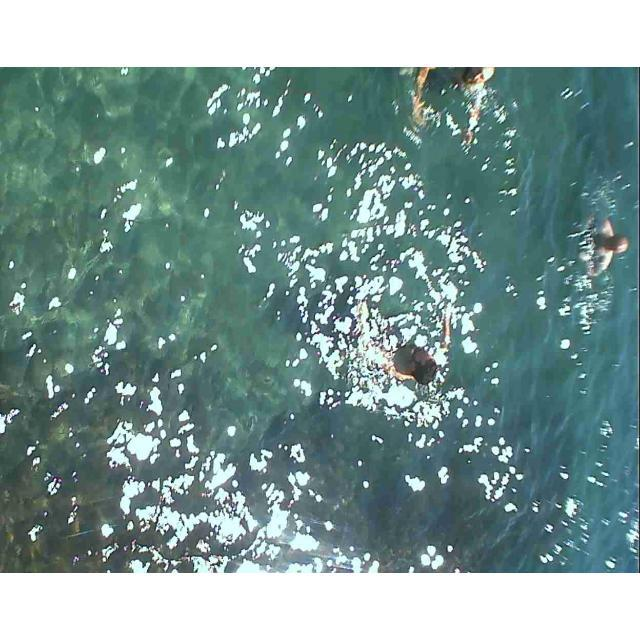human: (363, 297, 452, 394), (407, 67, 490, 156), (579, 208, 627, 283)
